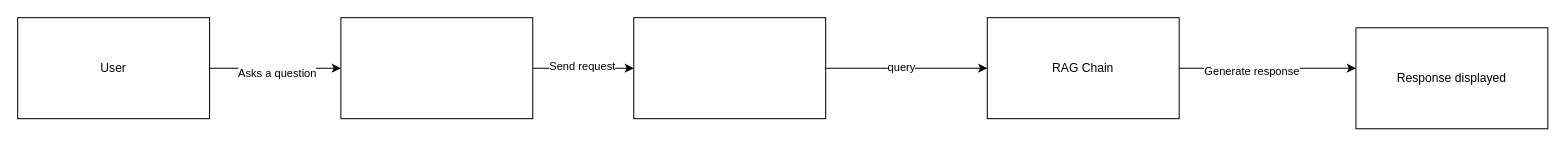
Image size: 1566x146. Some labels were removed from this diagram. The centre of each missing label's shape, as x and y in pixels:
Backend: the point at 729,68
Frontend: the point at 436,68
